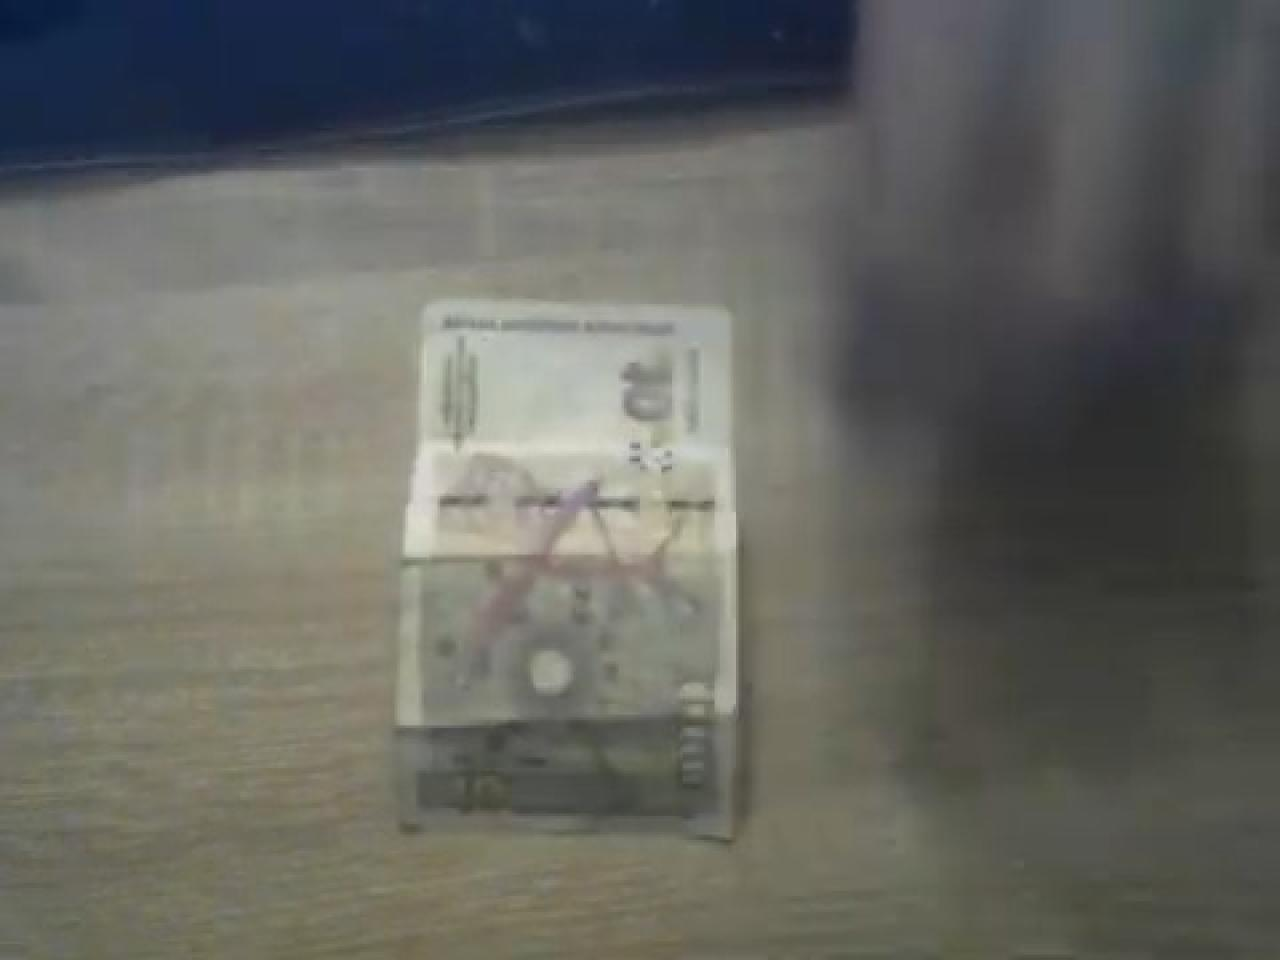10leva: (395, 298, 744, 845)
